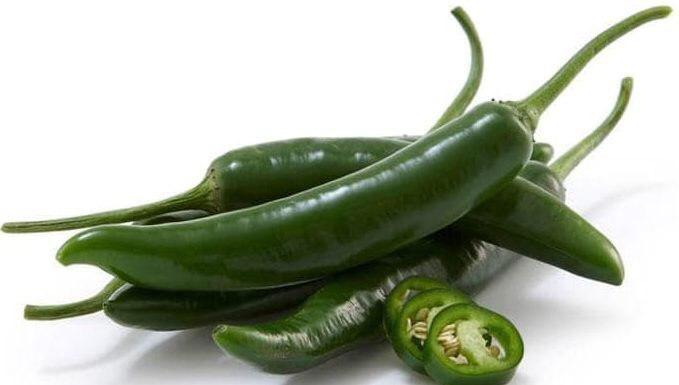lada hijau: (54, 84, 543, 305), (205, 122, 632, 286)
